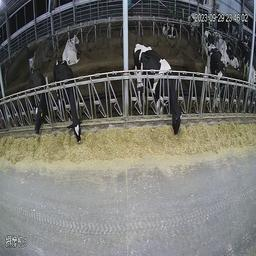cow: (133, 40, 185, 139), (53, 59, 84, 143), (29, 67, 48, 138), (207, 43, 226, 111), (63, 33, 84, 65), (161, 15, 178, 39), (188, 8, 201, 37)
